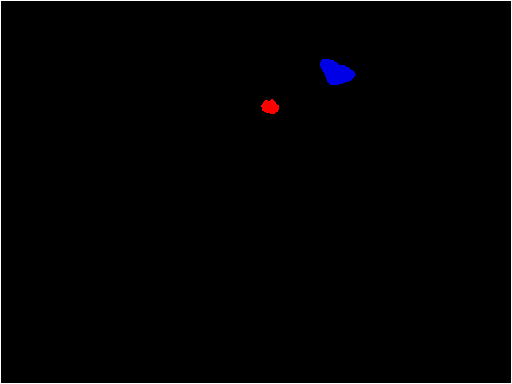chipped: (321, 63, 352, 83)
detached: (263, 99, 276, 115)
